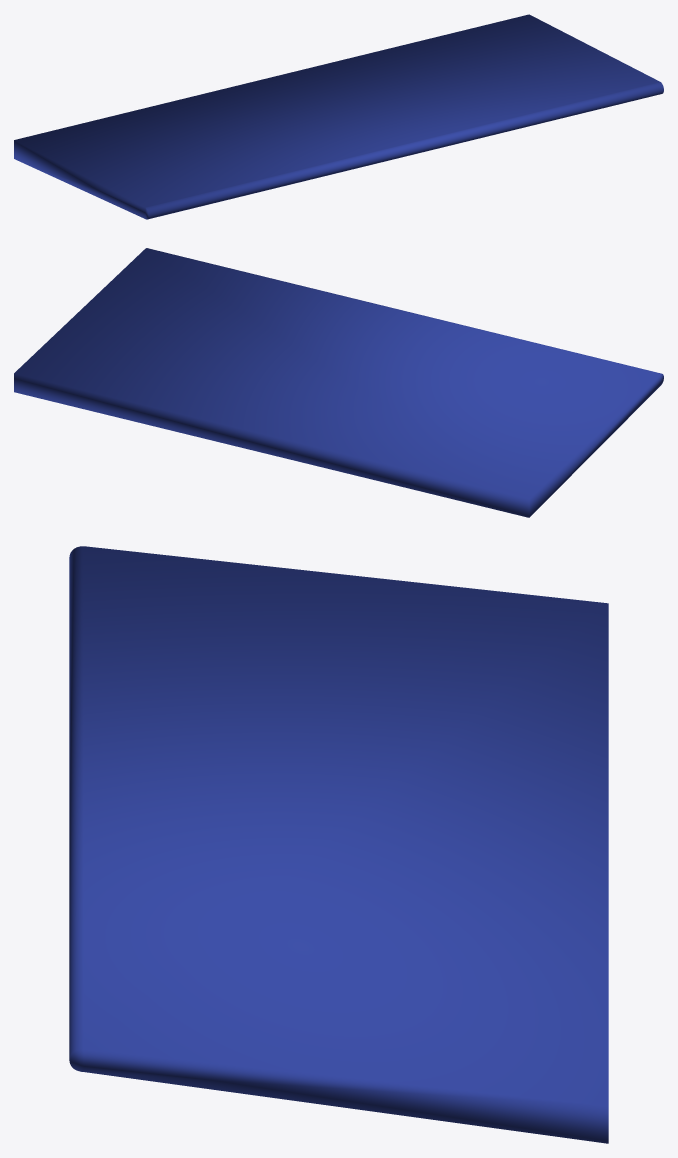
The model's file is atasan.obj.
3 views of the same model, one above another, from view 1: azimuth 30°, elevation 25°; view 2: azimuth 150°, elevation 25°; view 3: azimuth 270°, elevation 25° (orthographic). The views are drawn at different scales.
Visible parts, largest first — view 1: atasan; view 2: atasan; view 3: atasan.
Boxes of the visible parts, x1,y1,x2,y2 form: atasan: (14, 14, 663, 219); atasan: (14, 248, 663, 517); atasan: (69, 546, 608, 1143).
Size of the model in its own units: 11.59 by 1.02 by 5.25.
